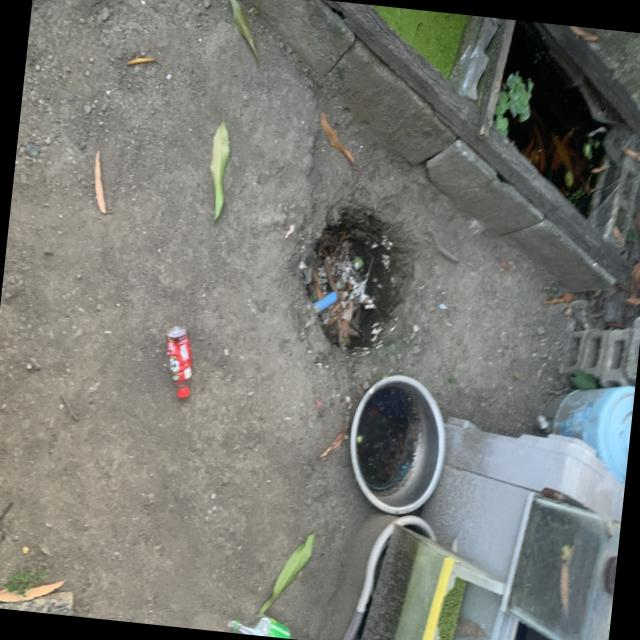Bottle: (166, 325, 192, 397)
